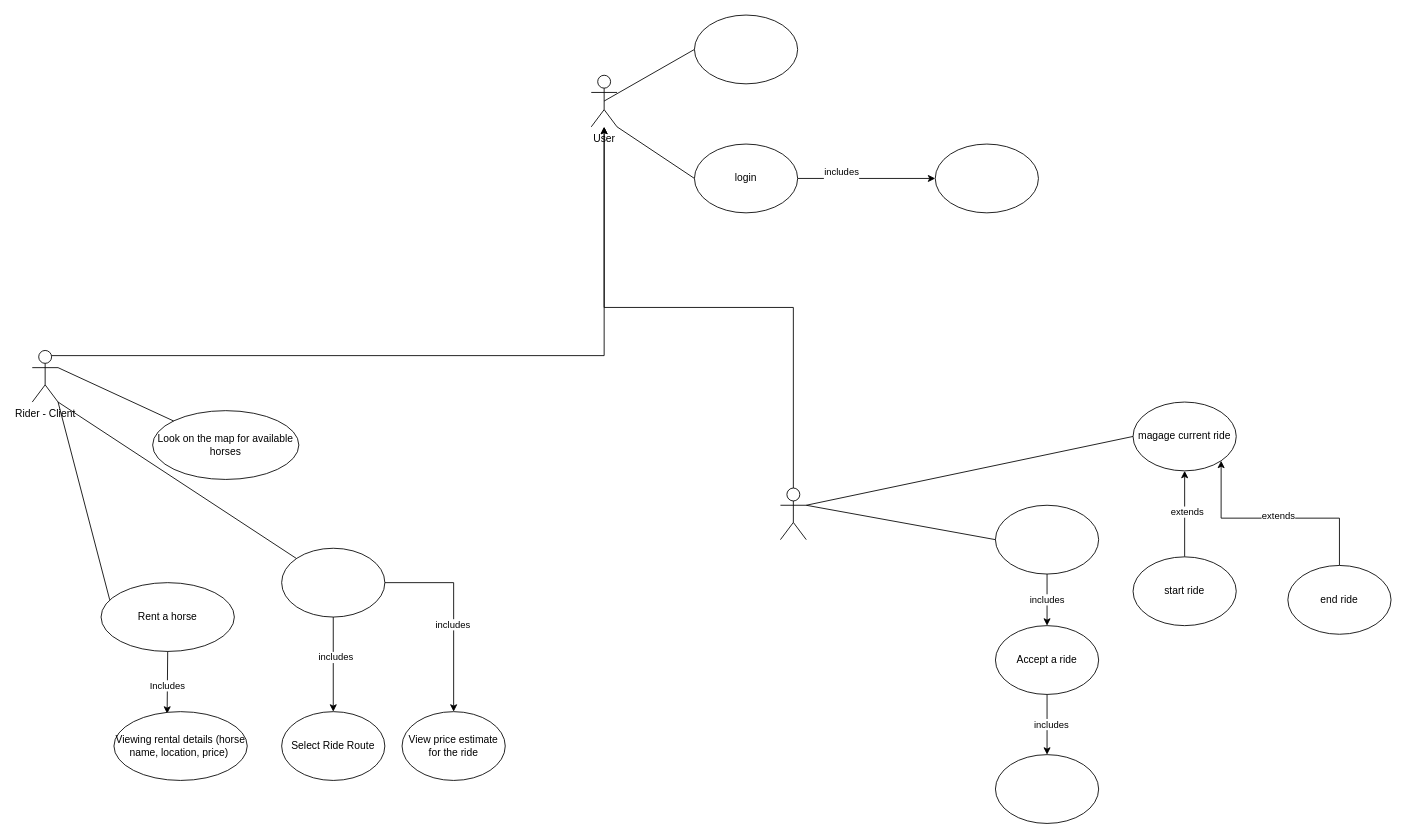
This 1406x839 diagram has some shape labels left out. The shapes that lost their labels are listed below. From the top down, each one's box as (x1, y1, x2, y2) in pixels, then its label:
(694, 14, 798, 84): view homepage
(934, 143, 1038, 213): choose login type (rider/driver)
(780, 487, 806, 540): Carriage Driver
(995, 504, 1099, 574): View Ride Requests
(281, 547, 385, 617): Request a carriage ride
(995, 754, 1099, 823): View Pickup Location of the rider
